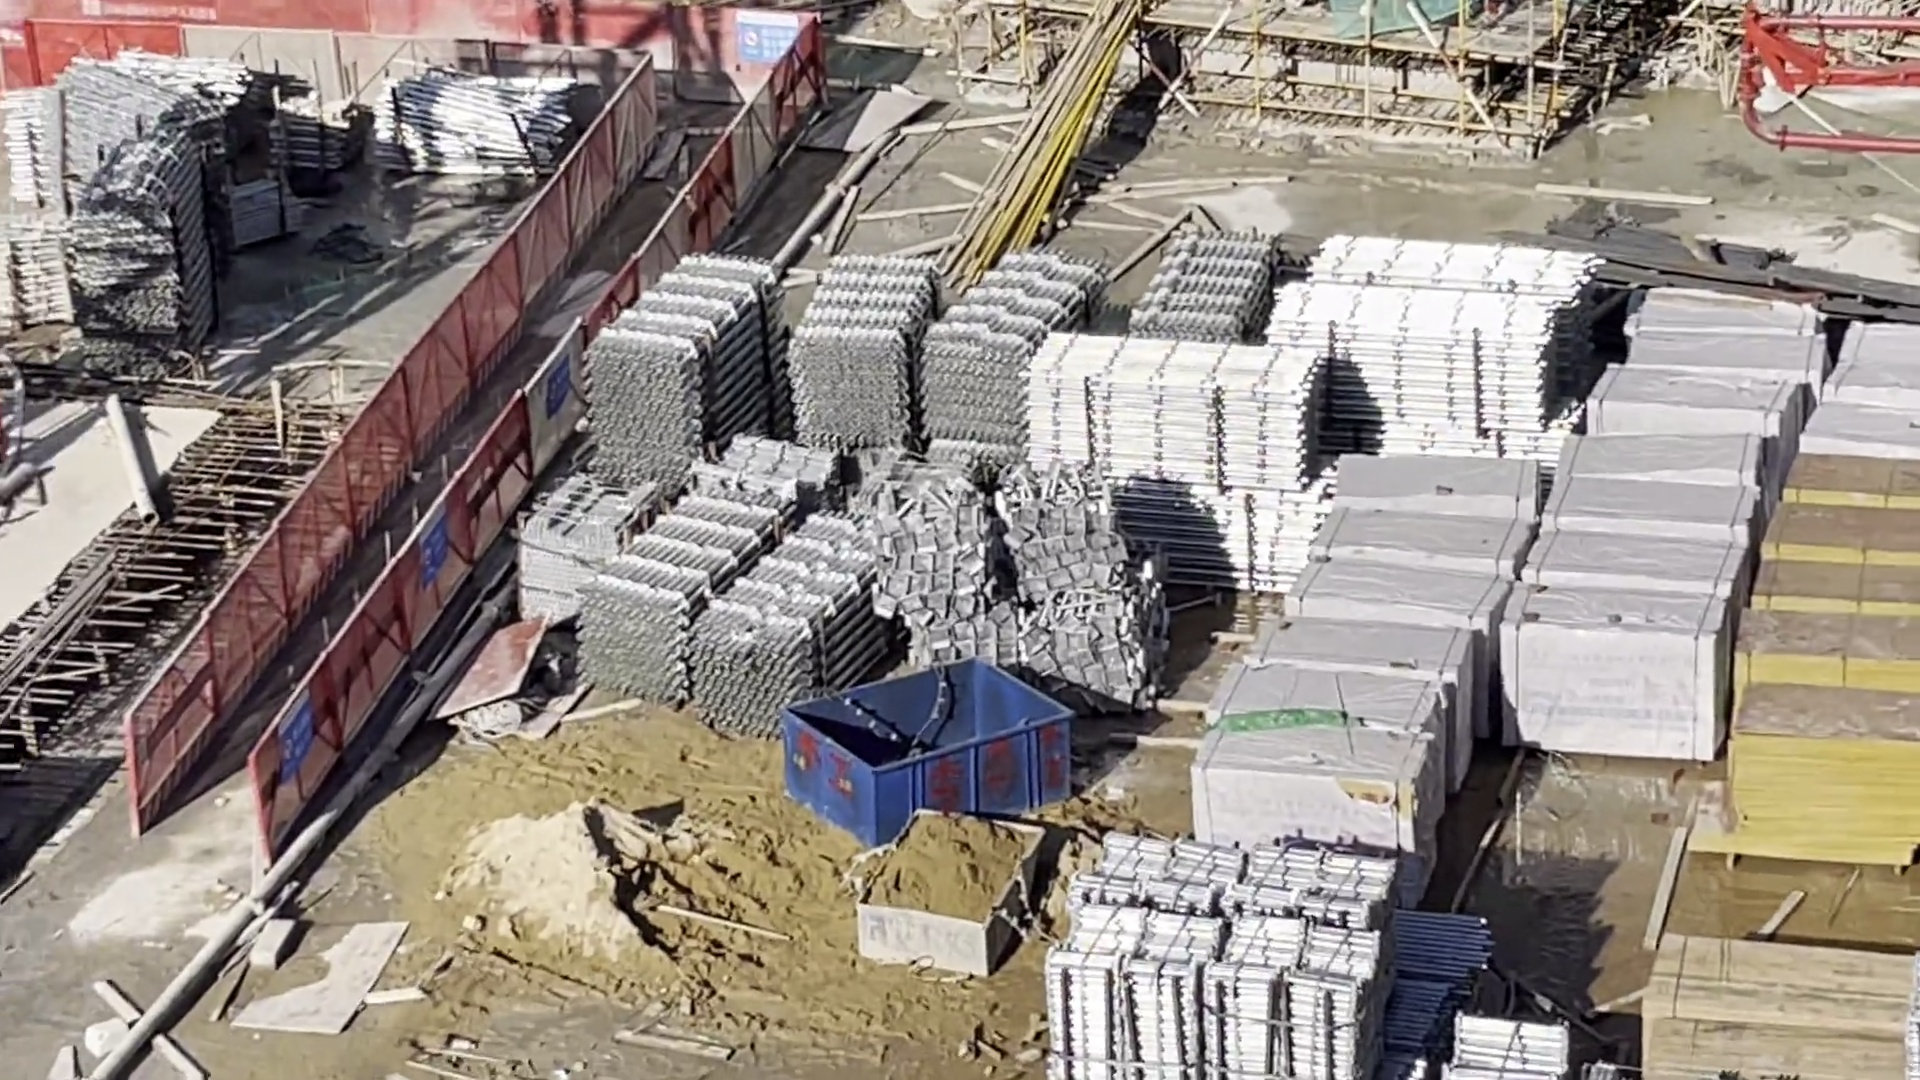board: (1745, 454, 1920, 853), (1648, 942, 1911, 1080)
fence: (142, 70, 800, 823), (3, 3, 727, 112)
hopper: (786, 657, 1069, 841), (851, 807, 1044, 969)
rebar: (1601, 253, 1909, 324)
scaffold: (1056, 856, 1395, 1080), (1023, 334, 1315, 572), (585, 495, 886, 720), (1276, 237, 1590, 446), (796, 258, 1098, 446), (593, 262, 782, 462), (80, 150, 204, 360), (15, 65, 240, 167), (378, 83, 567, 177), (1131, 237, 1269, 345), (1451, 1010, 1573, 1080), (11, 216, 76, 326), (274, 102, 347, 171)
slogan: (738, 7, 802, 73), (278, 691, 311, 773), (418, 508, 448, 585)
